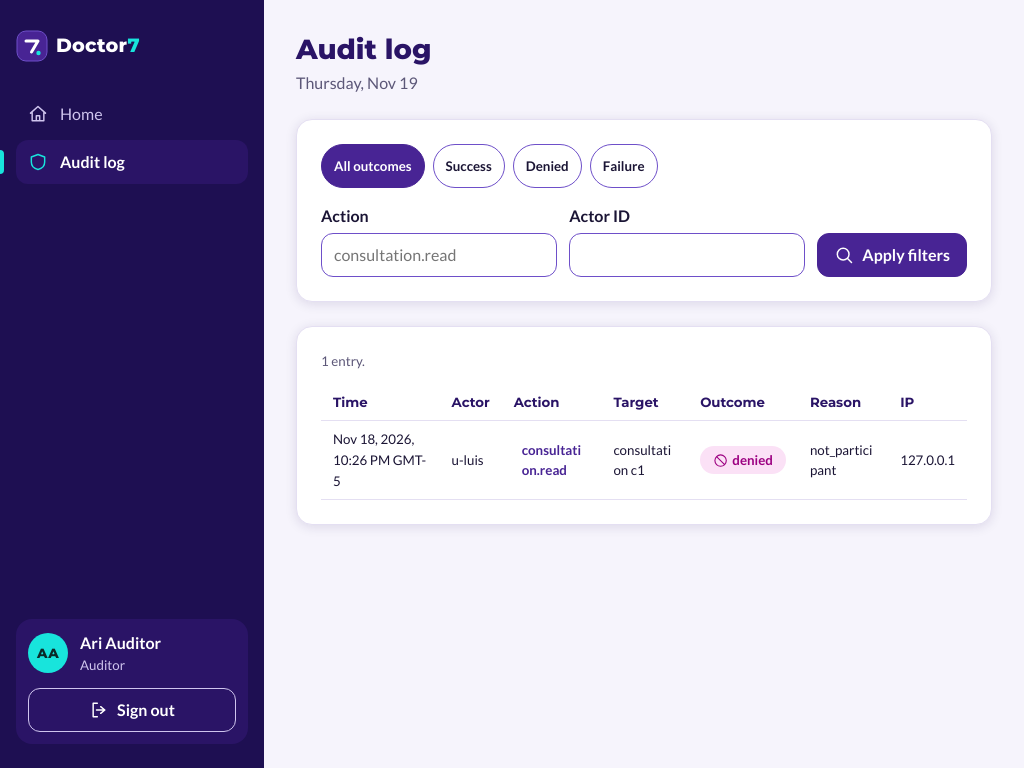
Test: Audit › offers to clear the filters beside the search while some are active, and not before
The image size is (1024, 768).
Expected: the table is shown, left=321, top=384, right=967, bottom=500
Expected: the button "Clear filters" is not shown
Click the button "Denied" at (547, 166), box left=513, top=144, right=582, bottom=188
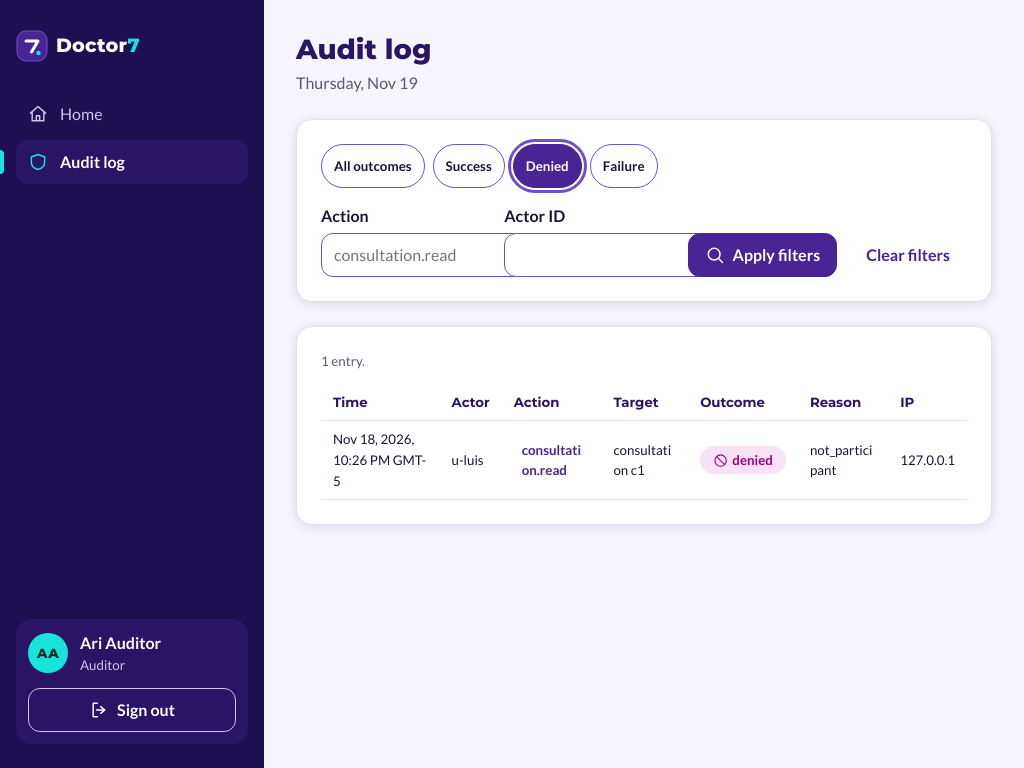
Click the button "Clear filters" at (908, 255), box left=849, top=233, right=967, bottom=277
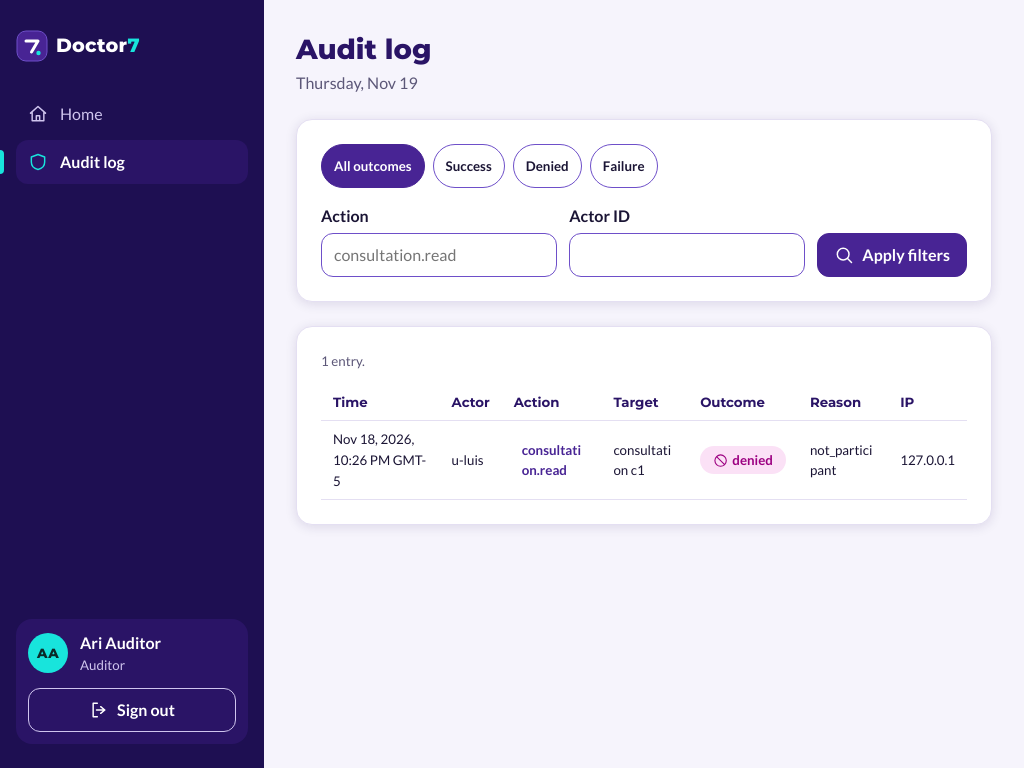
Expected: the button "Clear filters" is gone
